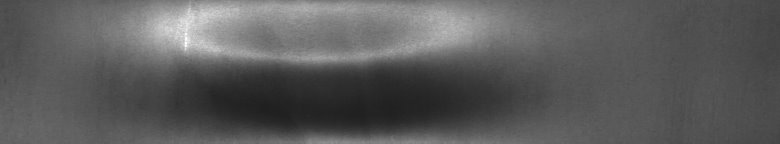ke: (183, 37, 442, 136)
